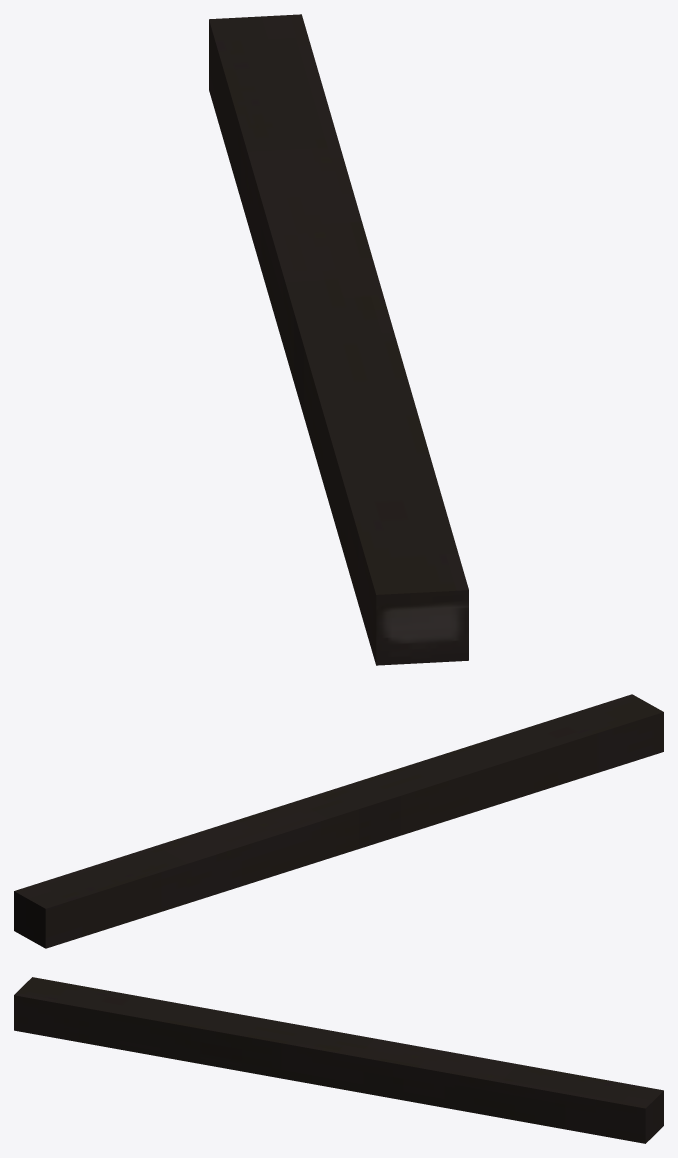
Rendered from support_ladder__side_rail_0.glb.
3 renders of one model, top to bottom at view 1: azimuth 30°, elevation 25°; view 2: azimuth 150°, elevation 25°; view 3: azimuth 270°, elevation 25°, orthographic. The views are drawn at different scales.
Parts seen in each view (by area): view 1: world; view 2: world; view 3: world.
Part boxes in pixels (bbox=[...]): world: bbox=[209, 14, 468, 665]; world: bbox=[14, 694, 663, 948]; world: bbox=[14, 977, 663, 1143].
Bounding box in the file's own units: 0.1995 × 0.025 × 0.4167.
Materials: 1 (1 with a texture image).
